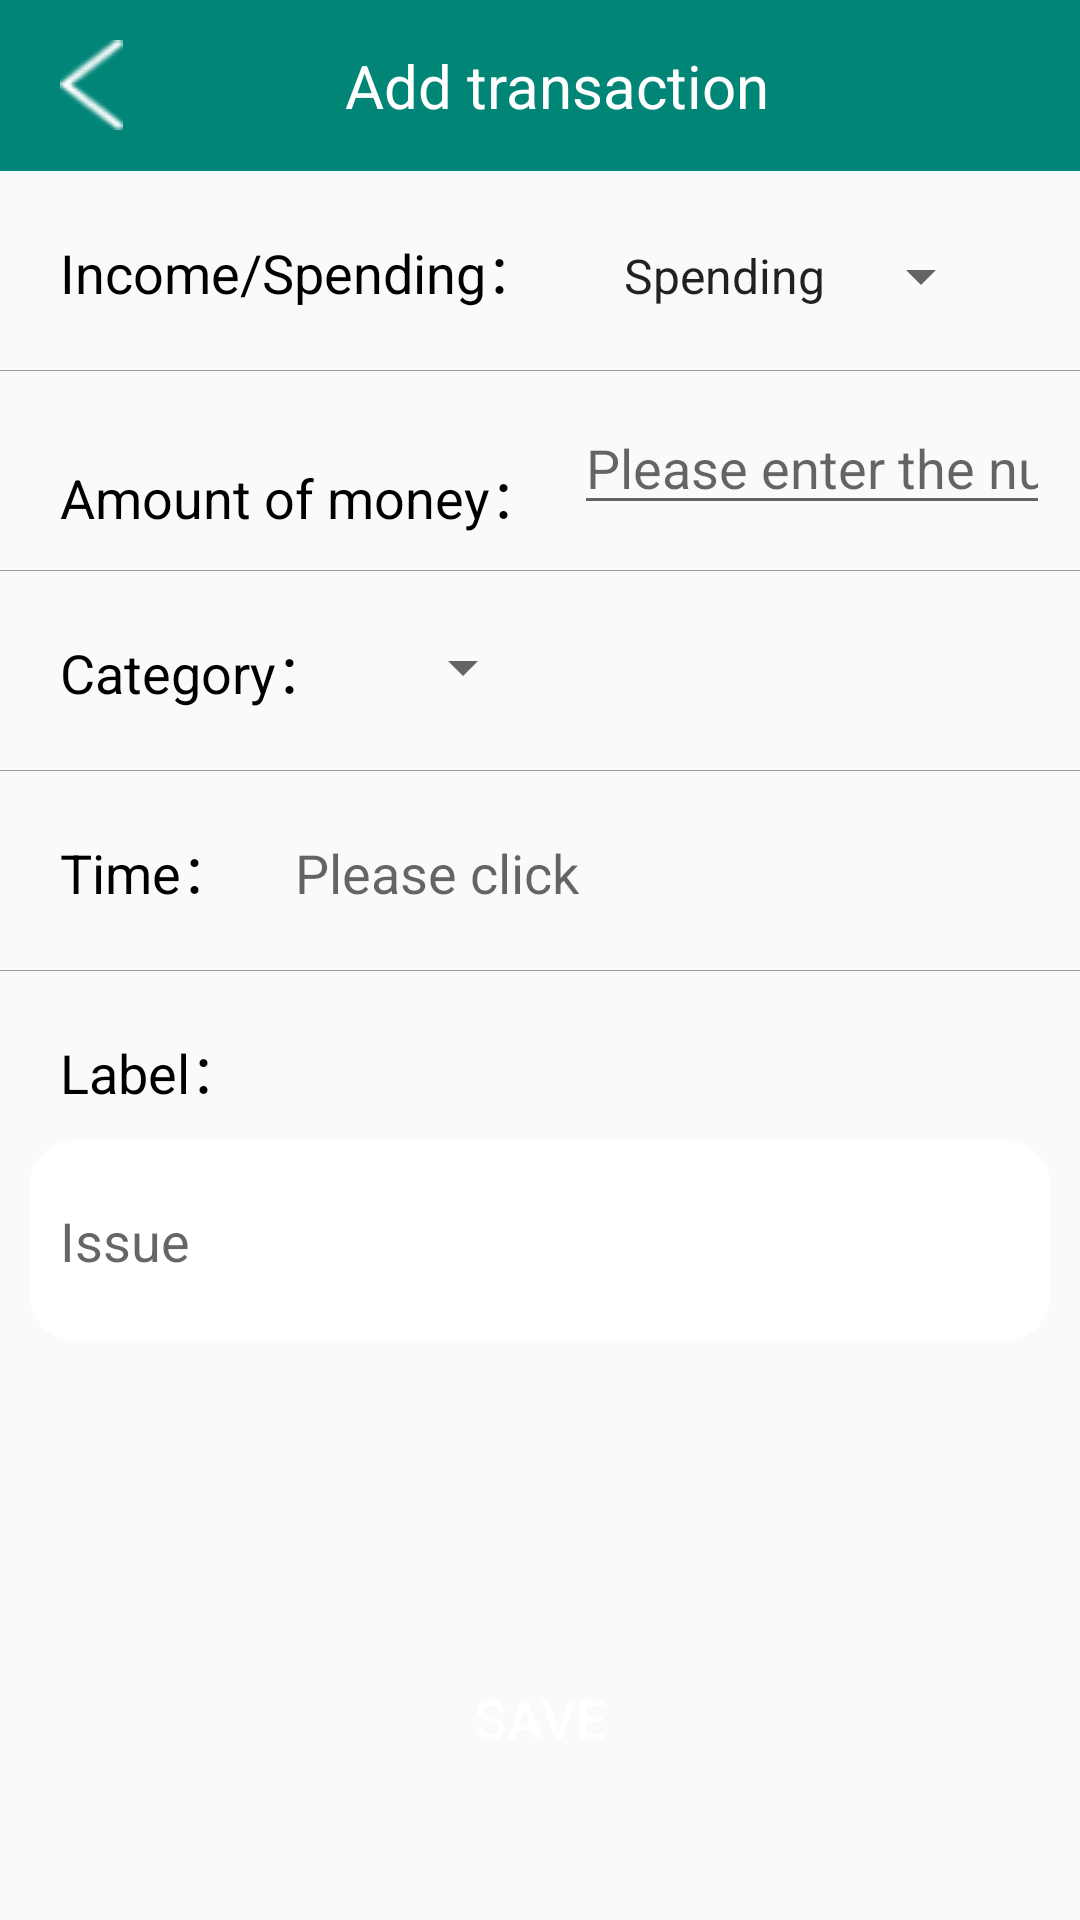

Where icons sit on this 1080 x 1920 app screen, as {"left": x1, "top": y1, "right": x2, "bottom": y2}:
back: {"left": 60, "top": 40, "right": 123, "bottom": 130}
